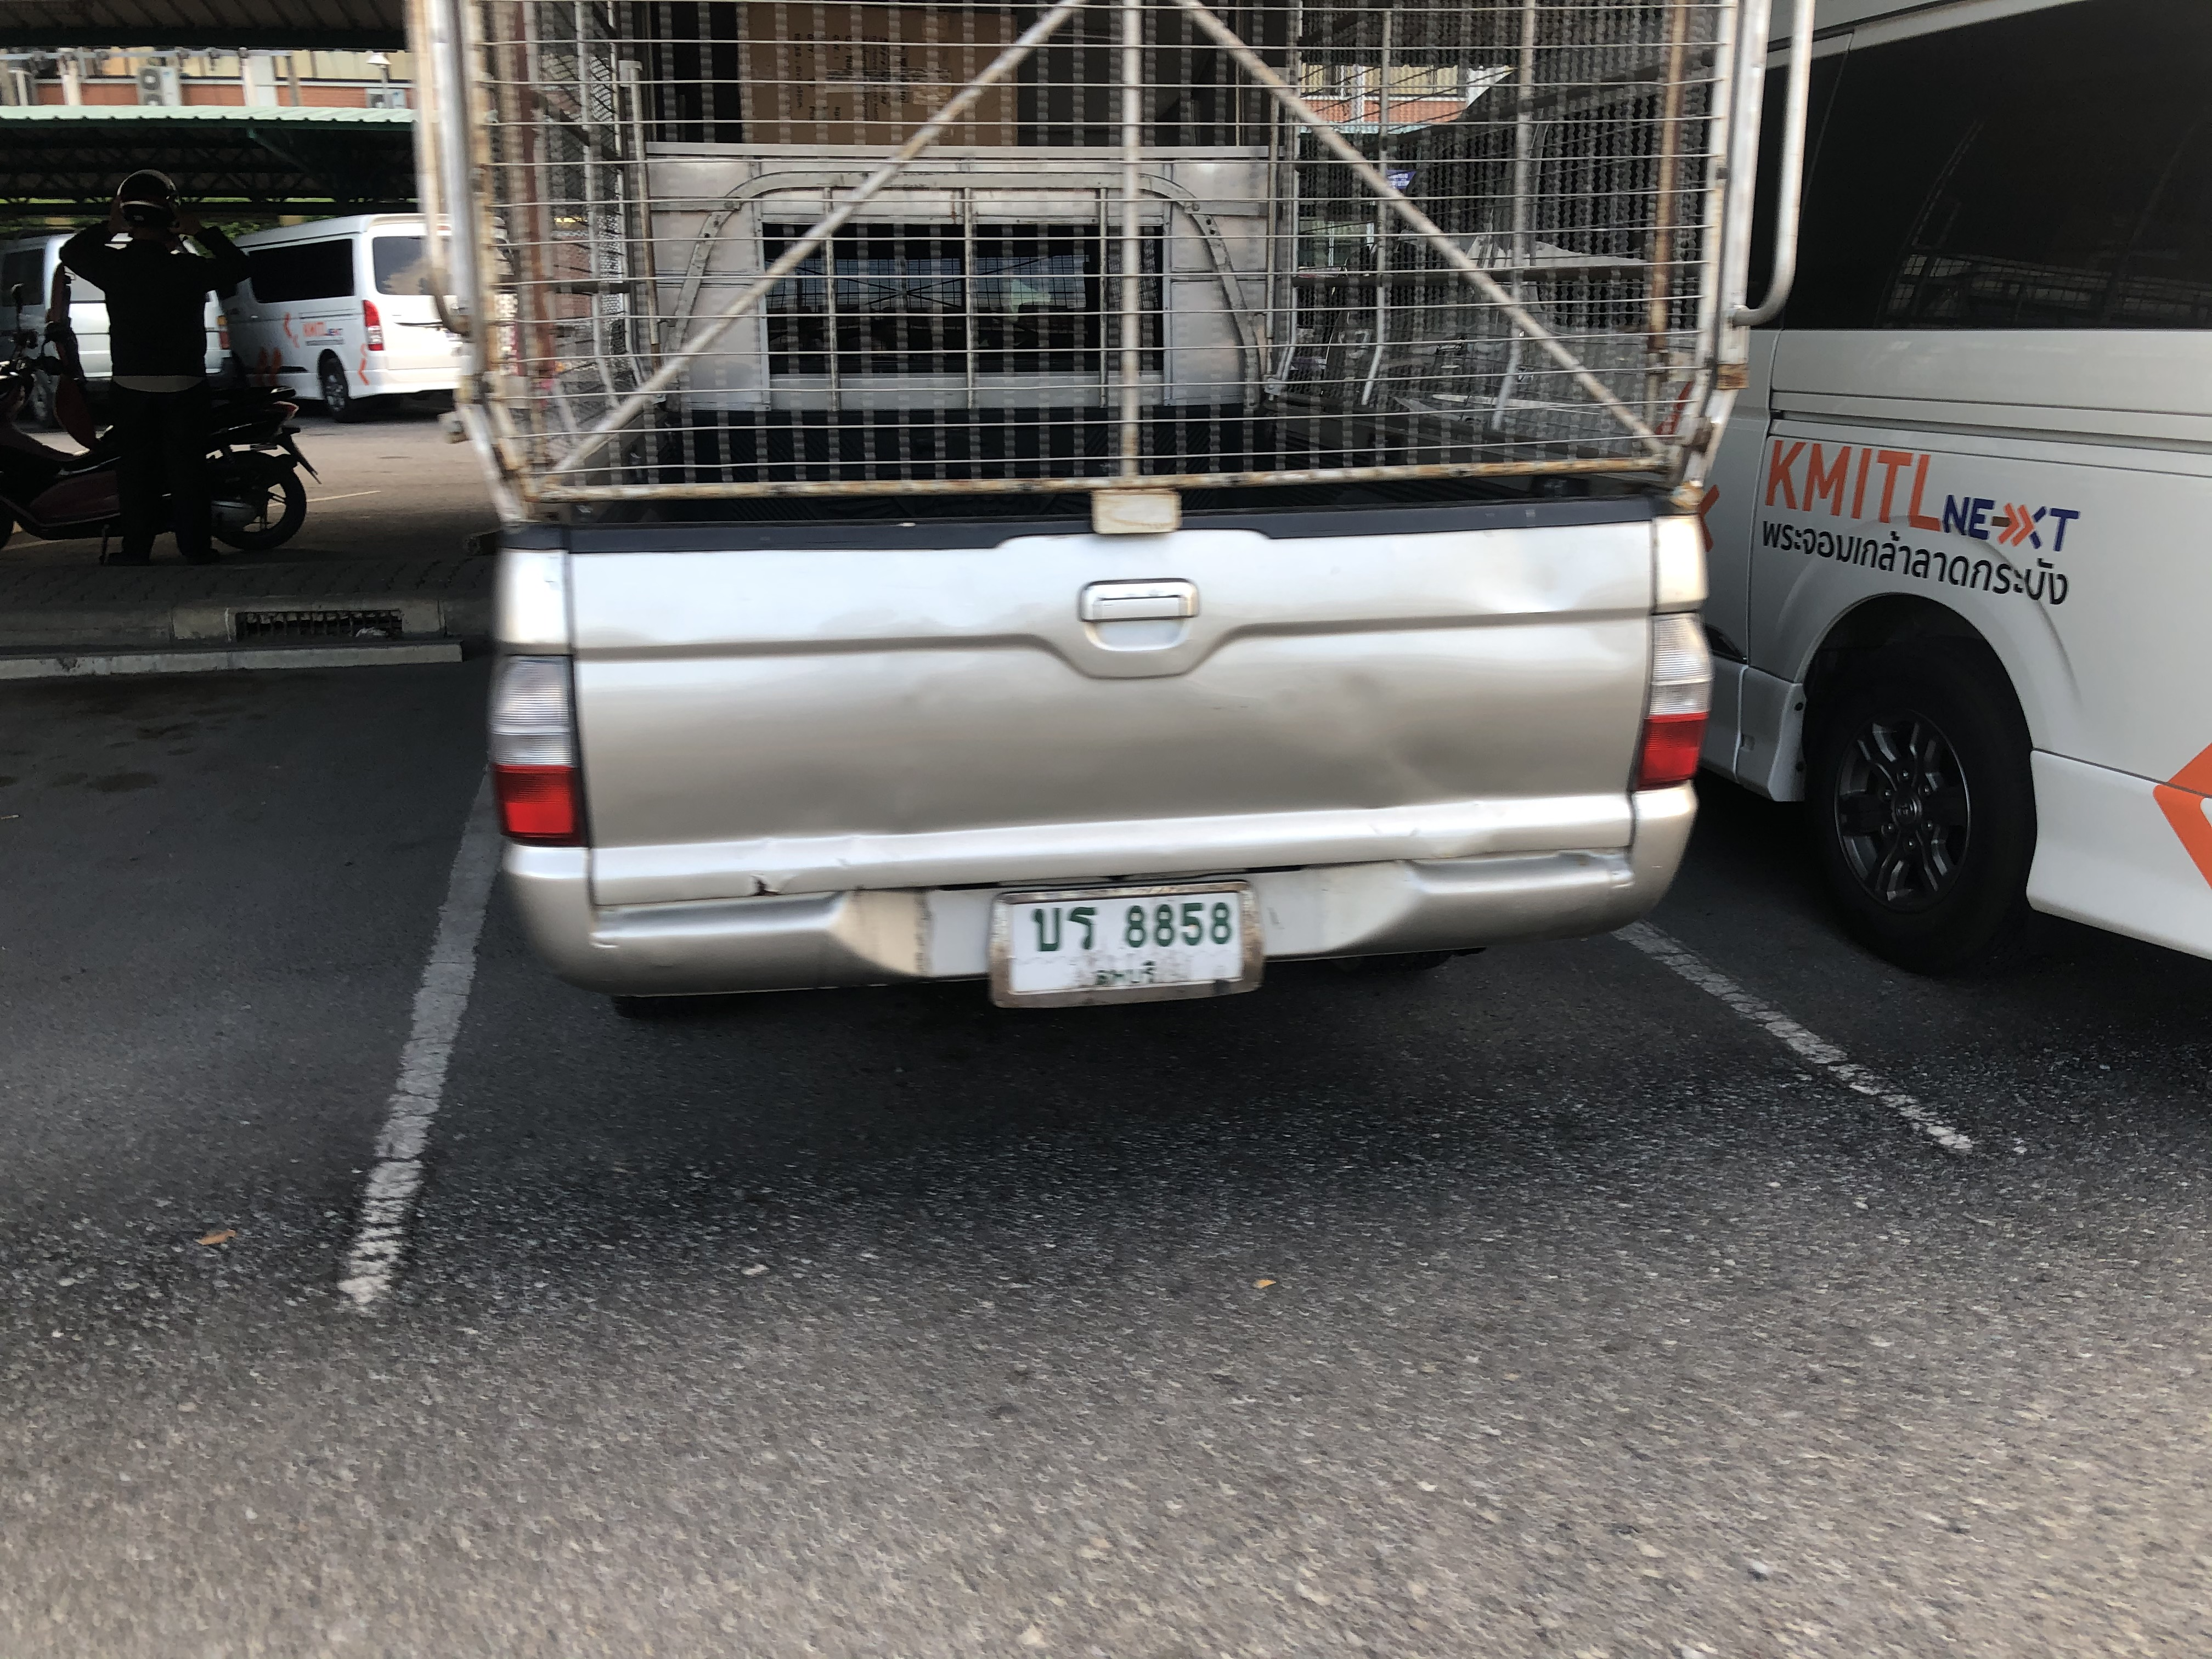in: (1003, 896, 1247, 992)
out: (982, 877, 1270, 1012)
